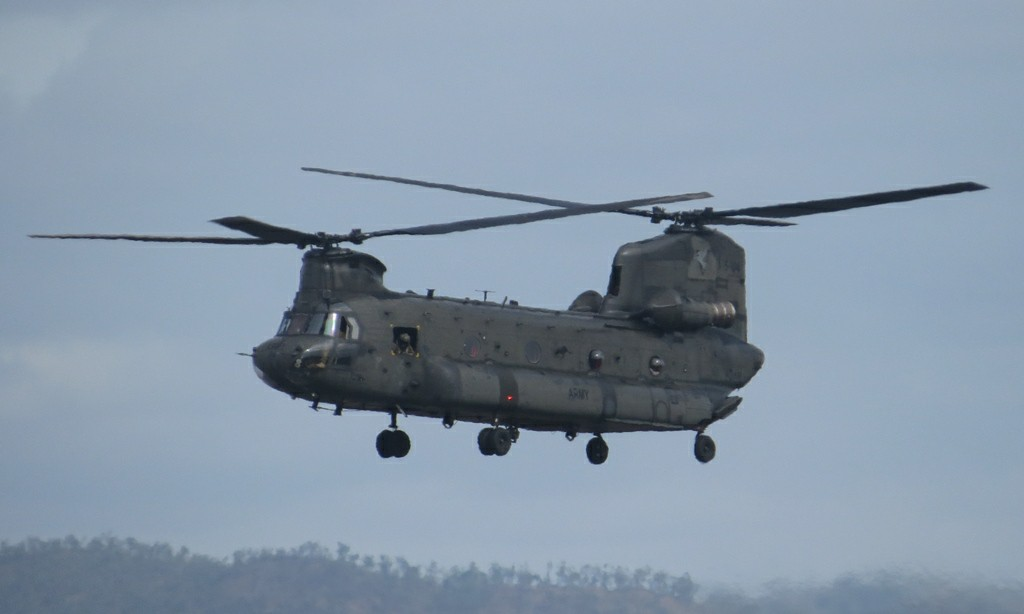chinook: (34, 146, 1006, 463)
